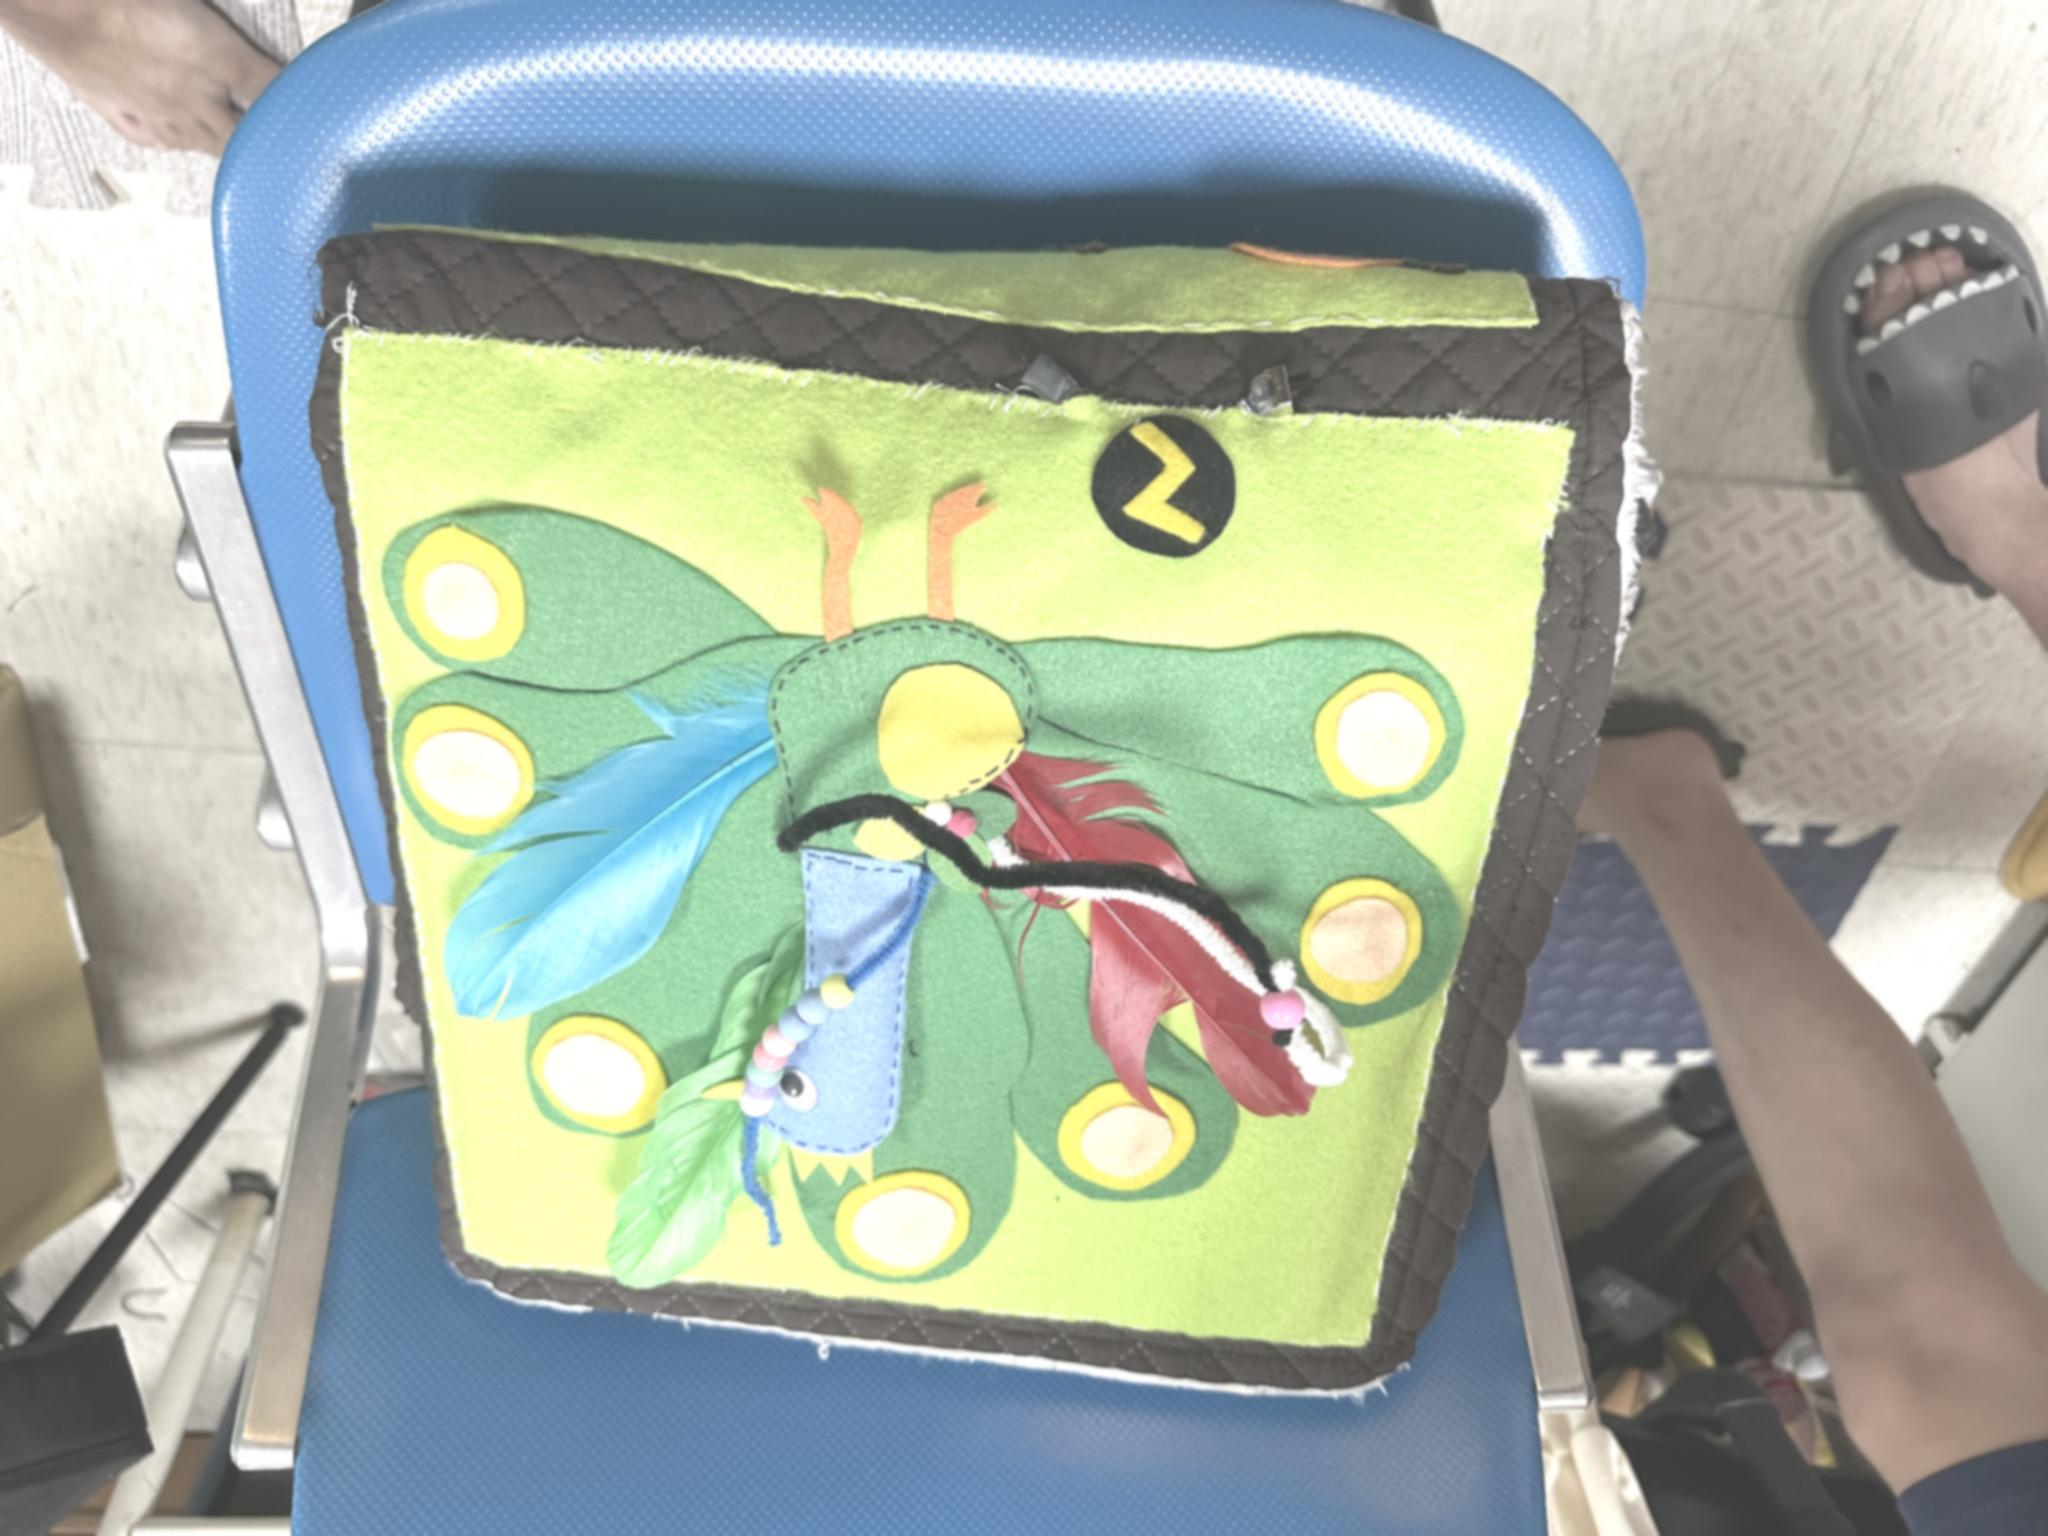bead: (1255, 986, 1313, 1034), (789, 989, 829, 1031), (816, 976, 856, 1012), (734, 1097, 777, 1123), (769, 1013, 811, 1037), (742, 1052, 801, 1068), (758, 1031, 803, 1052), (739, 1068, 797, 1084), (739, 1084, 787, 1102)
